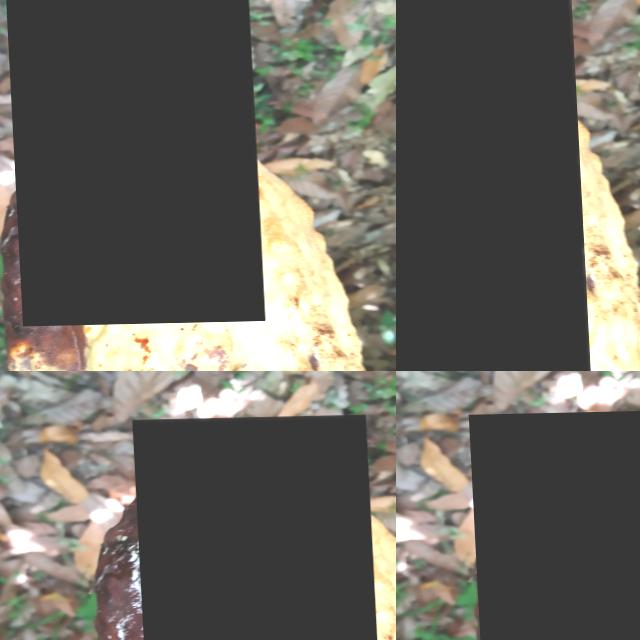Monilia: (396, 0, 586, 371), (131, 417, 375, 640), (467, 409, 640, 640)
Sana: (4, 0, 260, 327)
